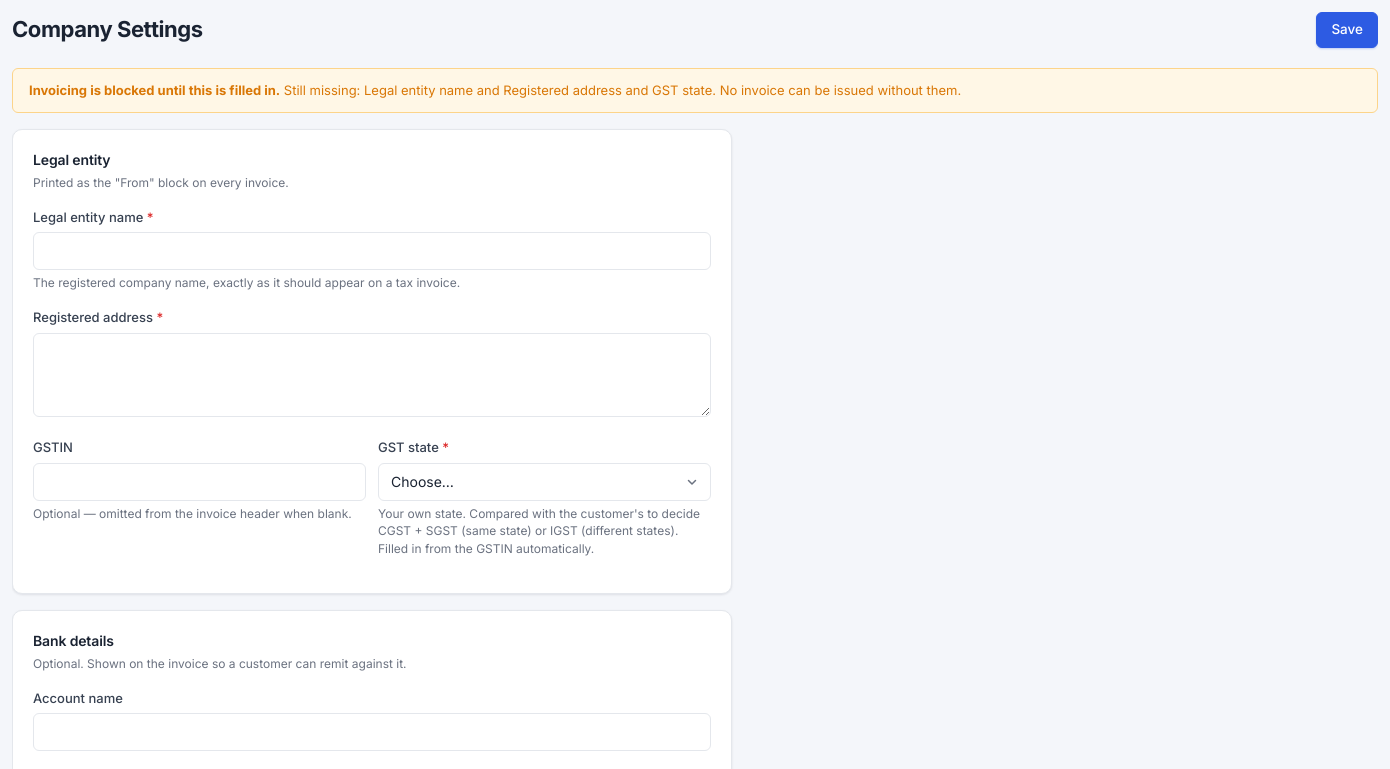
Scenario: AdminCompanySettingsComponent › hides the blocked banner once both gate fields are filled
The width and height of the screenshot is (1390, 769).
Type "M2C Sourcing Pvt Ltd" into the field with id "cs-legal-name".
click(372, 251); type("M2C Sourcing Pvt Ltd")  # box [33,232,711,270]
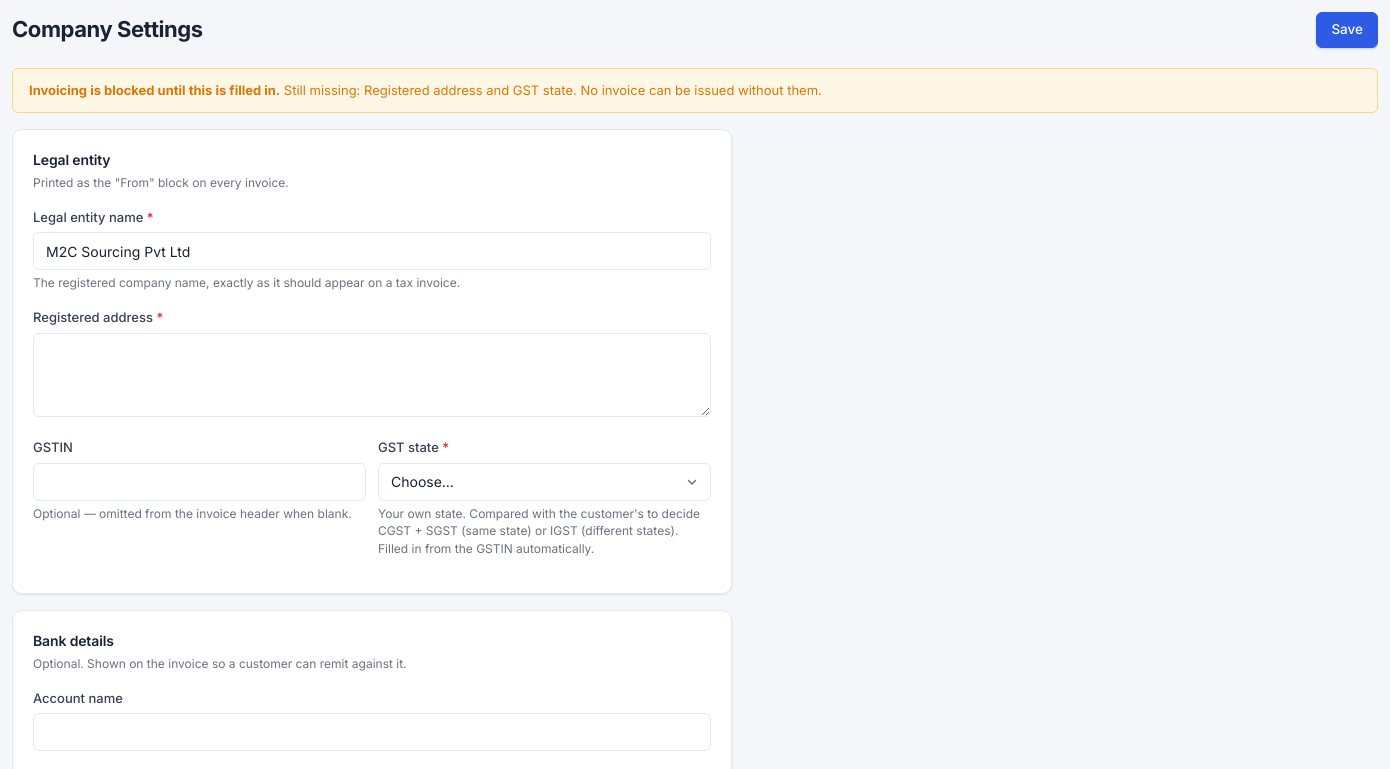
Type "123 Industrial Estate, Surat, Gujarat" into the text box with id "cs-address".
click(372, 375); type("123 Industrial Estate, Surat, Gujarat")  # box [33,333,711,417]
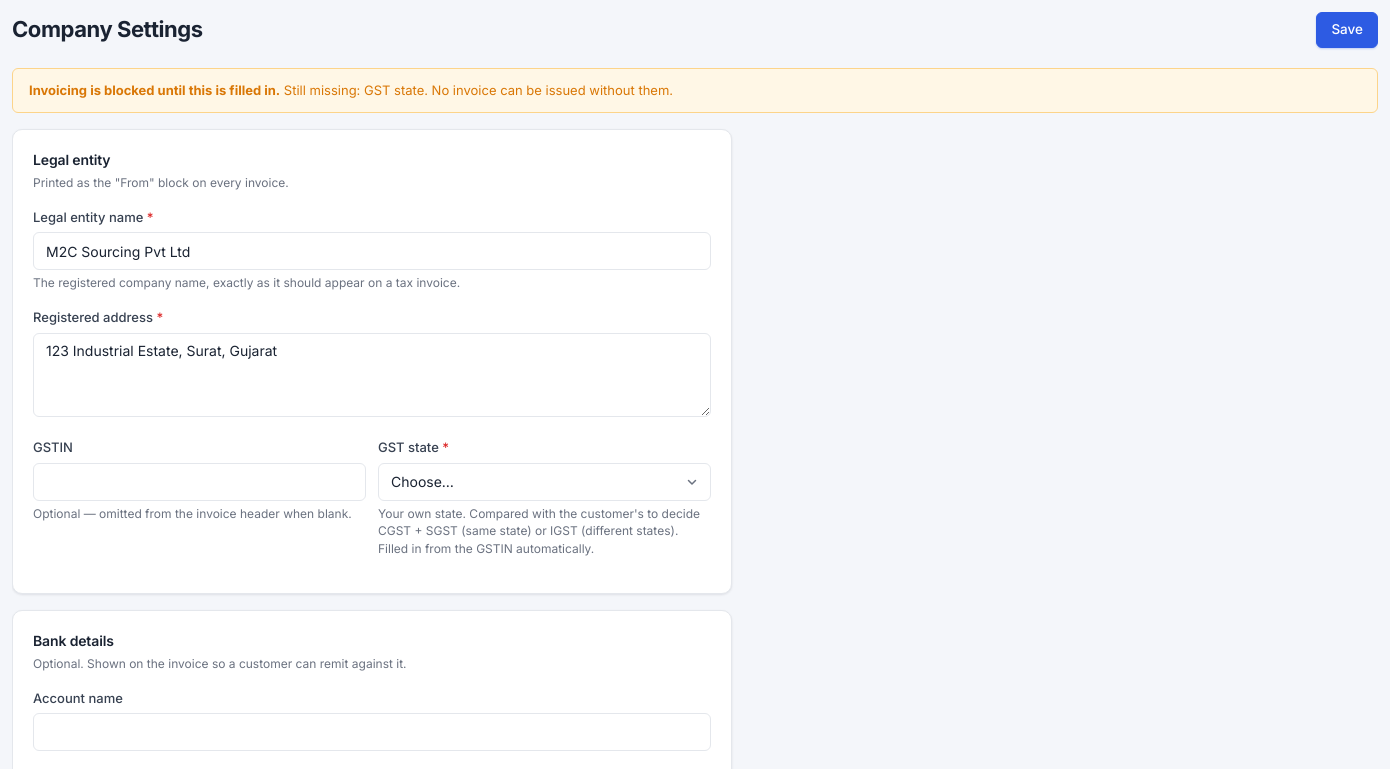
Select "24 — Gujarat" in the dropdown with id "cs-state" at (544, 482), box [378,463,711,501]
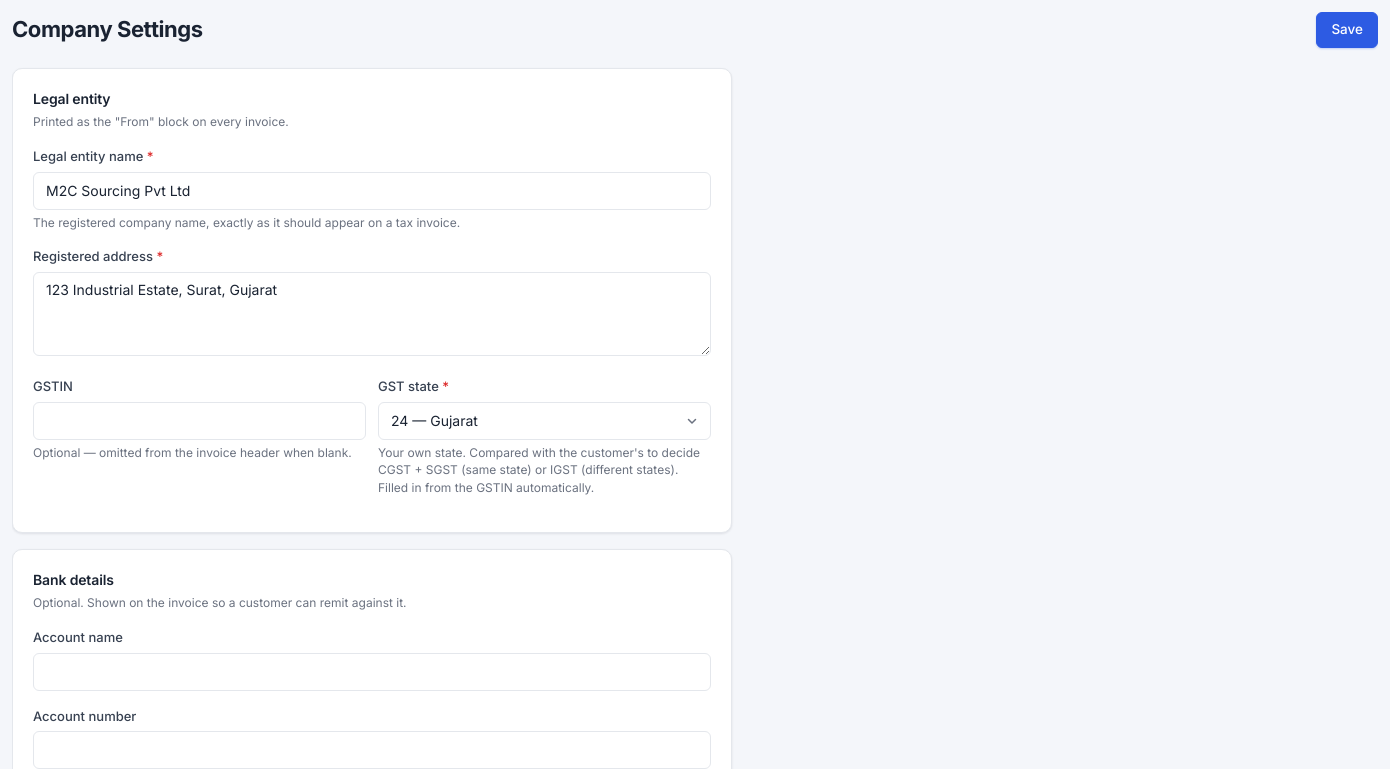
Check: the text "Invoicing is blocked" is gone
